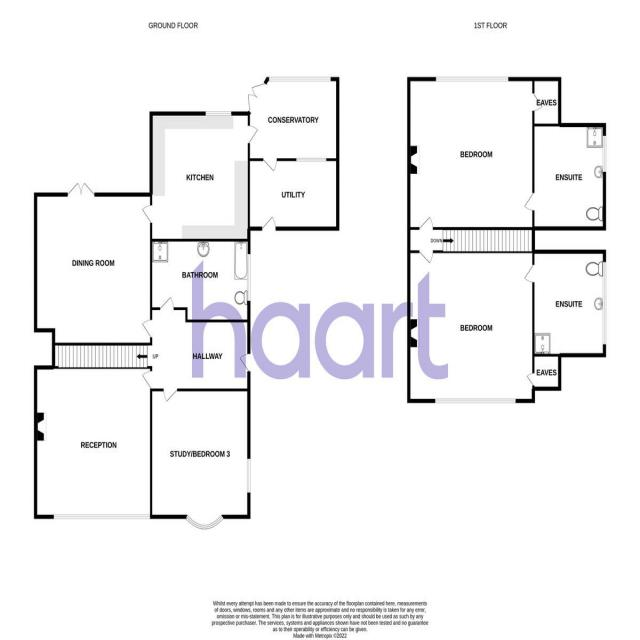DOOR: (247, 123, 258, 145), (159, 295, 175, 310), (260, 216, 276, 231), (238, 352, 250, 372), (523, 192, 535, 212), (417, 216, 434, 230), (141, 203, 152, 224), (141, 317, 152, 338), (523, 264, 535, 283), (262, 158, 278, 172), (532, 92, 543, 112), (419, 250, 434, 264), (141, 370, 152, 389), (162, 389, 178, 402)
DOUBLE DOOR: (62, 178, 96, 199)
ROOM: (407, 250, 535, 404), (407, 77, 535, 230), (34, 181, 152, 346), (34, 364, 152, 519), (141, 111, 259, 242), (150, 388, 251, 530), (435, 76, 510, 82)
WINDOW: (52, 513, 151, 520), (185, 514, 224, 530), (434, 398, 516, 404), (602, 260, 607, 345), (268, 77, 331, 82), (247, 252, 251, 303), (602, 134, 607, 173), (246, 457, 251, 493), (295, 157, 327, 162), (204, 111, 232, 116)
